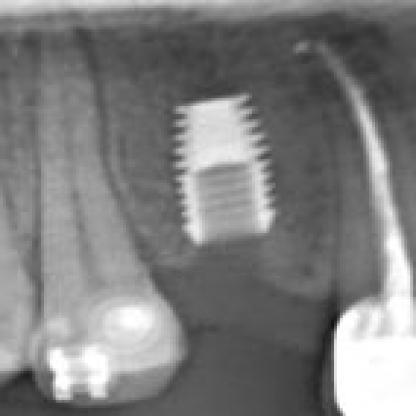Bicon: (165, 88, 272, 244)
